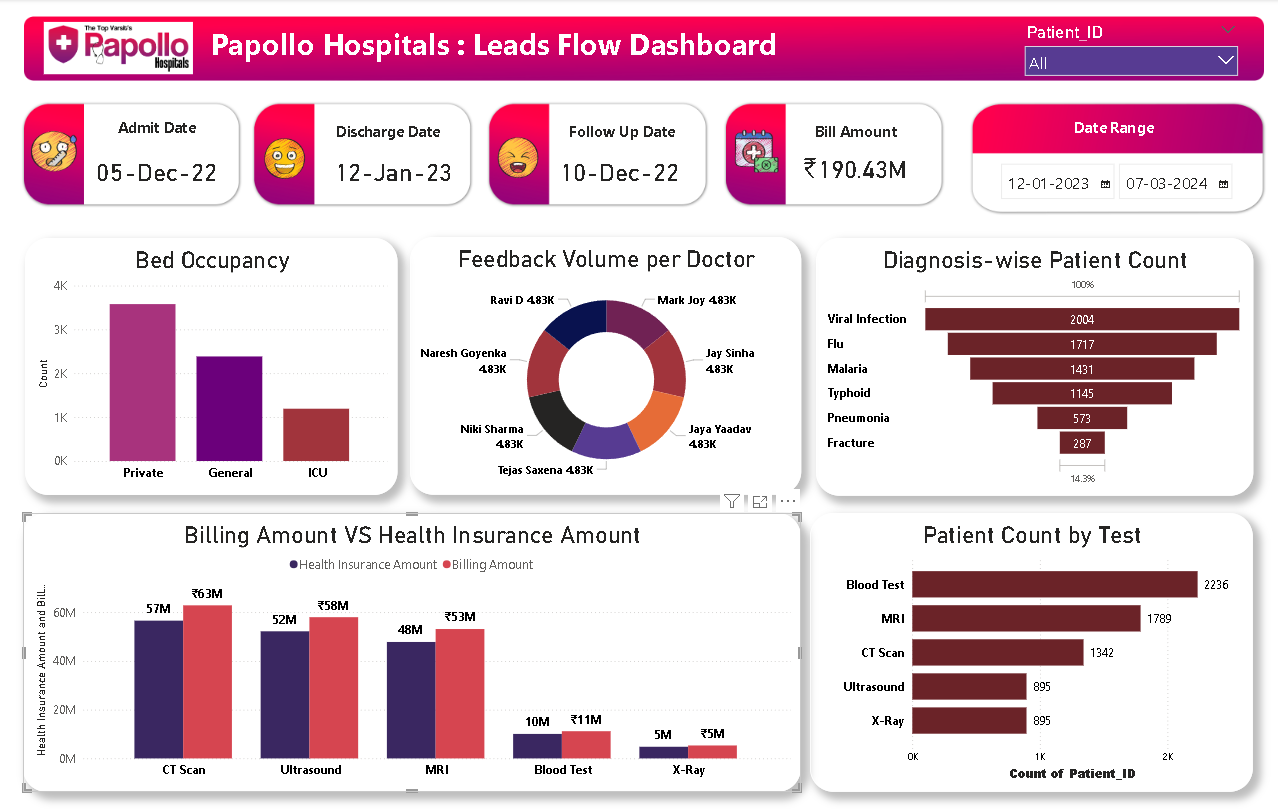

The page's visual inventory and layout, read from the dashboard file:
{"tool":"powerbi","page":{"name":"Page 2","canvas":[1680,1050],"ordinal":0},"visuals":[{"type":"textbox","box":[280,27.1,755.7,74.3],"z":0},{"type":"image","box":[2636.7,100,623.3,150],"z":1000},{"type":"slicer","fields":{"Values":["Sheet1.Patient_ID"]},"box":[2400,373.3,793.3,420],"z":2000},{"type":"card","fields":{"Values":["Sheet1.Admit_Date"]},"box":[437.6,198.8,162.9,42.8],"z":3000},{"type":"card","fields":{"Values":["Sheet1.Discharge_Date"]},"box":[129.8,198.8,172.6,42.8],"z":4000},{"type":"card","fields":{"Values":["Sheet1.Followup Date"]},"box":[724.3,198.6,167.1,42.9],"z":5000},{"type":"textbox","box":[152.9,145.7,127.1,57.1],"z":6000},{"type":"textbox","box":[437.1,151.4,151.4,37.1],"z":7000},{"type":"textbox","box":[732.9,151.4,158.6,37.1],"z":8000},{"type":"textbox","box":[1035.7,151.4,151.4,37.1],"z":9000},{"type":"card","fields":{"Values":["Sheet1.Billing Amount"]},"box":[1031.4,194.3,158.6,42.9],"z":10000},{"type":"image","box":[50,157.1,68.6,74.3],"z":11000},{"type":"image","box":[348.6,172.9,62.9,62.9],"z":12000},{"type":"image","box":[640,171.4,77.1,62.9],"z":13000},{"type":"image","box":[951.4,158.6,65.7,71.4],"z":14000},{"type":"columnChart","title":"Bed Occupancy","fields":{"Category":["Sheet1.Bed_Occupancy"],"Y":["Sheet1.Bed_Occupancy"]},"box":[47.1,305.7,477.1,328.6],"z":15000},{"type":"donutChart","title":"Feedback Volume per Doctor","fields":{"Category":["Sheet1.Doctor"],"Y":["Sheet1.Feedback"]},"box":[540.2,305.2,501,329.5],"z":16000},{"type":"funnel","title":"Diagnosis-wise Patient Count","fields":{"Category":["Sheet1.Diagnosis"],"Y":["Sheet1.Diagnosis"]},"box":[1060,305.7,560,330],"z":17000},{"type":"image","box":[30,24.3,274.3,77.1],"z":18000},{"type":"clusteredColumnChart","title":"Billing Amount VS Health Insurance Amount","fields":{"Category":["Sheet1.Test"],"Y":["Sheet1.Health Insurance Amount","Sheet1.Billing Amount"]},"box":[44.8,658.2,996.2,357.3],"z":19000},{"type":"slicer","fields":{"Values":["Sheet1.Admit_Date"]},"box":[1284.3,201.2,360.6,68.9],"z":20000},{"type":"slicer","fields":{"Values":["Sheet1.Patient_ID"]},"box":[1317.1,24.3,292.9,82.9],"z":21000},{"type":"textbox","box":[1365.7,145.7,151.4,37.1],"z":22000},{"type":"barChart","title":" Patient Count by Test","fields":{"Category":["Sheet1.Test"],"Y":["Sheet1.Patient_ID"]},"box":[1052.6,658.2,567.3,357.3],"z":25000}]}

Visuals, with their boxes in screenshot pixels (x1, y1, x2, y2), scaled from the page's 1680x1050 canvas onto the 1278x809 screenshot:
textbox: bbox=(213, 21, 788, 78)
card - Sheet1.Admit_Date: bbox=(333, 153, 457, 186)
card - Sheet1.Discharge_Date: bbox=(99, 153, 230, 186)
card - Sheet1.Followup Date: bbox=(551, 153, 678, 186)
textbox: bbox=(116, 112, 213, 156)
textbox: bbox=(333, 117, 448, 145)
textbox: bbox=(558, 117, 678, 145)
textbox: bbox=(788, 117, 903, 145)
card - Sheet1.Billing Amount: bbox=(785, 150, 905, 183)
image: bbox=(38, 121, 90, 178)
image: bbox=(265, 133, 313, 182)
image: bbox=(487, 132, 546, 181)
image: bbox=(724, 122, 774, 177)
"Bed Occupancy" columnChart: bbox=(36, 236, 399, 489)
"Feedback Volume per Doctor" donutChart: bbox=(411, 235, 792, 489)
"Diagnosis-wise Patient Count" funnel: bbox=(806, 236, 1232, 490)
image: bbox=(23, 19, 231, 78)
"Billing Amount VS Health Insurance Amount" clusteredColumnChart: bbox=(34, 507, 792, 782)
slicer - Sheet1.Admit_Date: bbox=(977, 155, 1251, 208)
slicer - Sheet1.Patient_ID: bbox=(1002, 19, 1225, 83)
textbox: bbox=(1039, 112, 1154, 141)
" Patient Count by Test" barChart: bbox=(801, 507, 1232, 782)
